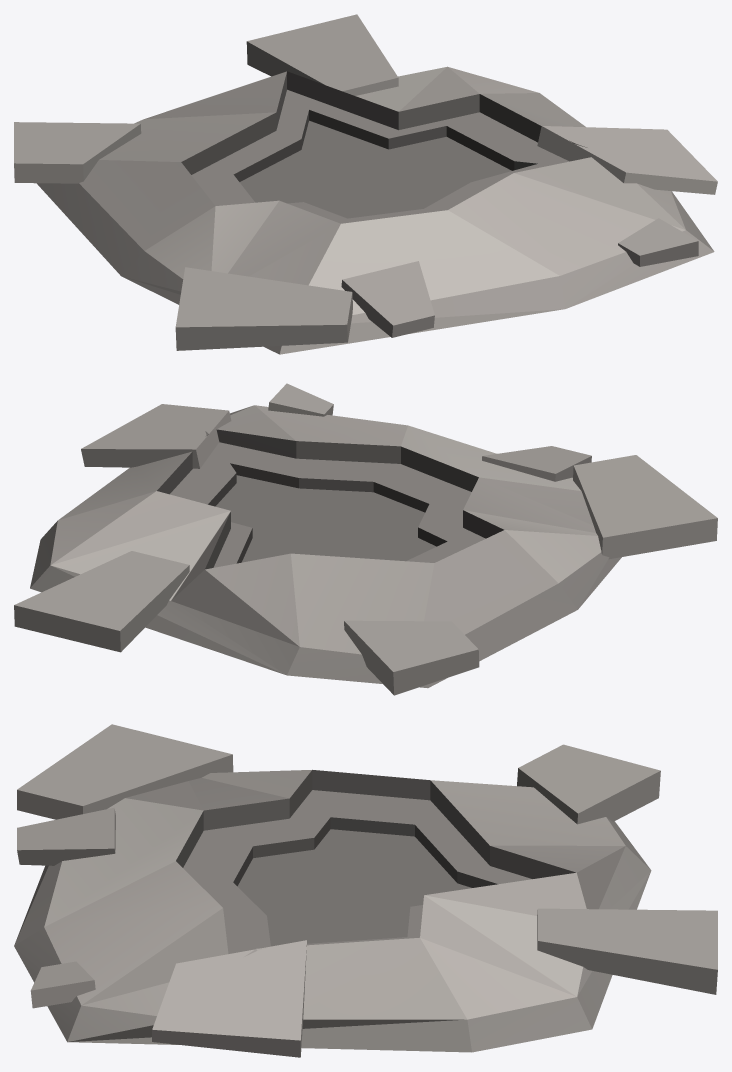
The model's file is SA_Env_DamagedConcrete.glb.
3 views of the same model, one above another, from view 1: azimuth 30°, elevation 25°; view 2: azimuth 150°, elevation 25°; view 3: azimuth 270°, elevation 25° (orthographic). The views are drawn at different scales.
Parts seen in each view (by area): view 1: SA_Env_DamagedConcrete; view 2: SA_Env_DamagedConcrete; view 3: SA_Env_DamagedConcrete.
Boxes of the visible parts, left/top/right/bottom form: SA_Env_DamagedConcrete: left=14, top=14, right=717, bottom=354; SA_Env_DamagedConcrete: left=14, top=383, right=717, bottom=695; SA_Env_DamagedConcrete: left=14, top=724, right=717, bottom=1057.
Size of the model in its own units: 2.78 by 0.2838 by 2.67.
Materials: 1 (1 with a texture image).
